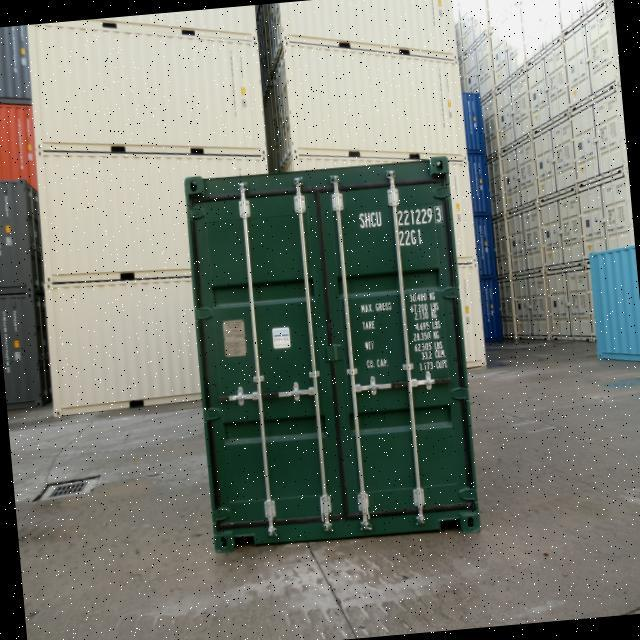le-tle-t-tletters: (357, 192, 448, 234)
